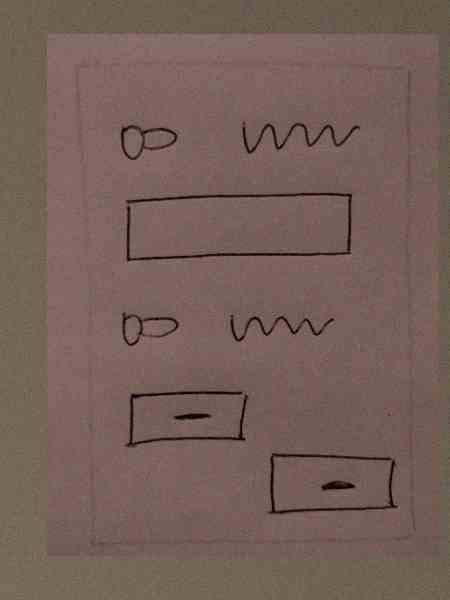button: (266, 450, 403, 520), (120, 386, 254, 451)
switch: (111, 116, 186, 171), (116, 308, 182, 352)
text: (234, 119, 368, 160), (218, 305, 335, 349)
text_input: (116, 187, 358, 268)
